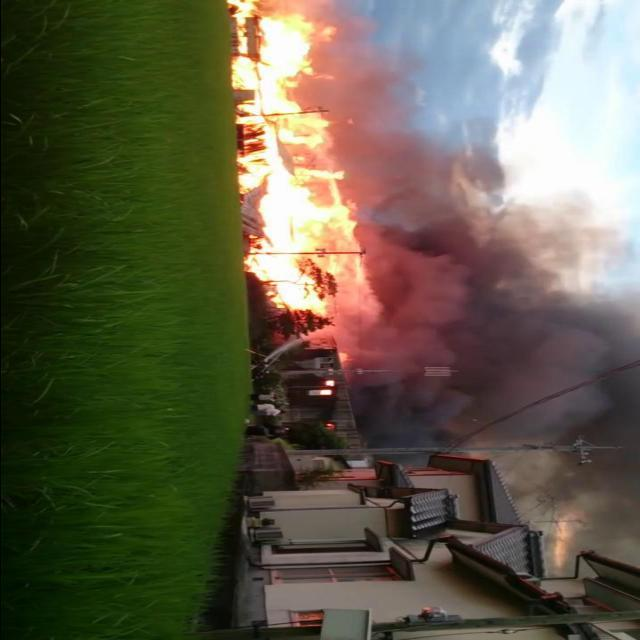Fire: (325, 422, 337, 430)
